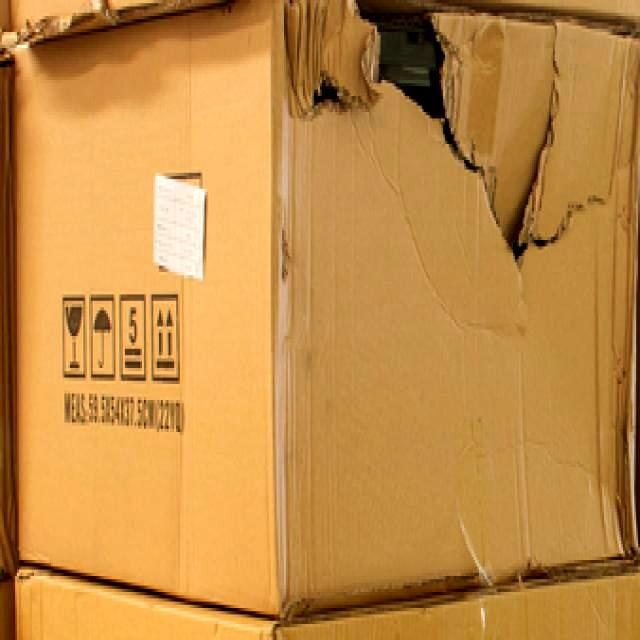Cardboard Box: (14, 0, 640, 617)
cut: (364, 13, 582, 258), (314, 77, 356, 106)
